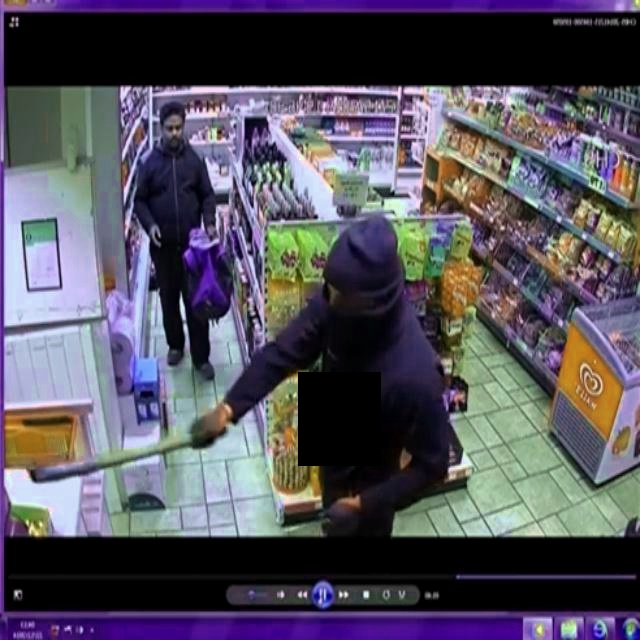gun: (20, 405, 234, 505)
